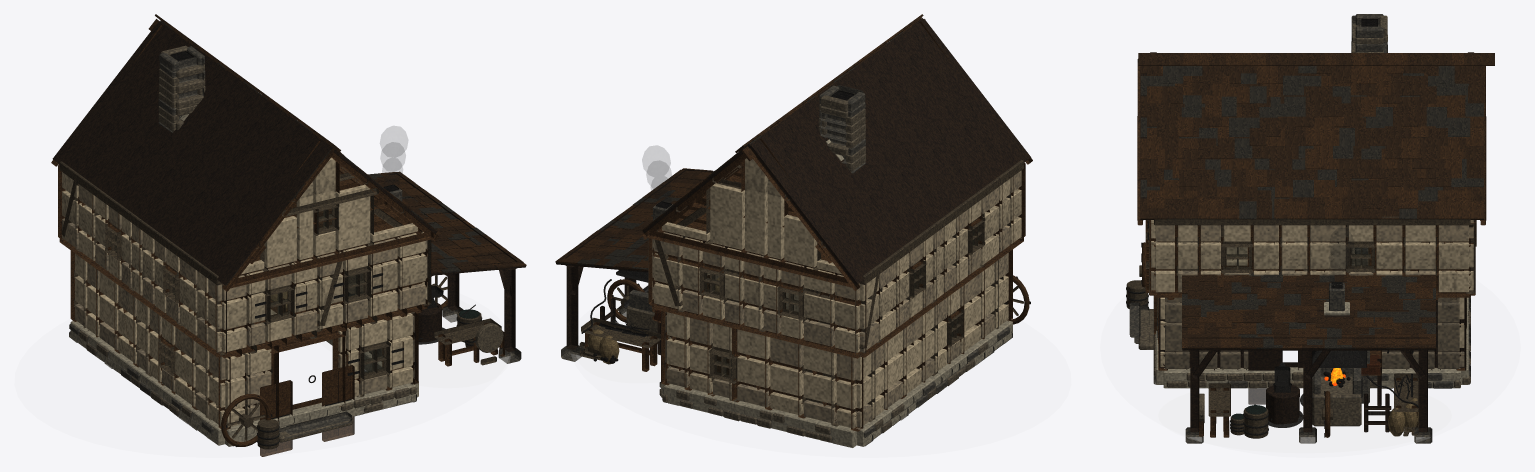
File: medieval_forge_3d_runtime.glb
The picture shows the model from 3 angles, left to right: view 1: azimuth 30°, elevation 25°; view 2: azimuth 150°, elevation 25°; view 3: azimuth 270°, elevation 25°; orthographic projection.
Visible parts, largest first — view 1: RUNTIME_BATCH_042_MAT_OAK_HEAT_AGED_SOOT, RUNTIME_BATCH_086_MAT_GROUND_SHADOW_ALPHA, RUNTIME_BATCH_021_MAT_LIME_CLAY_PLASTER_AGED, RUNTIME_BATCH_025_MAT_LIME_CLAY_PLASTER_AGED, RUNTIME_BATCH_023_MAT_LIME_CLAY_PLASTER_AGED, RUNTIME_BATCH_028_MAT_LIME_CLAY_PLASTER_AGED, RUNTIME_BATCH_019_MAT_LIME_CLAY_PLASTER_AGED, RUNTIME_BATCH_000_MAT_LIME_MORTAR, RUNTIME_BATCH_022_MAT_LIME_CLAY_PLASTER_WORN, RUNTIME_BATCH_014_MAT_OAK_HANDHEWN_GREY, RUNTIME_BATCH_026_MAT_LIME_CLAY_PLASTER_WORN, RUNTIME_BATCH_024_MAT_LIME_CLAY_PLASTER_WORN (+33 smaller); view 2: RUNTIME_BATCH_042_MAT_OAK_HEAT_AGED_SOOT, RUNTIME_BATCH_086_MAT_GROUND_SHADOW_ALPHA, RUNTIME_BATCH_023_MAT_LIME_CLAY_PLASTER_AGED, RUNTIME_BATCH_025_MAT_LIME_CLAY_PLASTER_AGED, RUNTIME_BATCH_029_MAT_LIME_CLAY_PLASTER_AGED, RUNTIME_BATCH_024_MAT_LIME_CLAY_PLASTER_WORN, RUNTIME_BATCH_026_MAT_LIME_CLAY_PLASTER_WORN, RUNTIME_BATCH_013_MAT_OAK_HANDHEWN_WEATHERED, RUNTIME_BATCH_014_MAT_OAK_HANDHEWN_GREY, RUNTIME_BATCH_000_MAT_LIME_MORTAR, RUNTIME_BATCH_008_MAT_OAK_HANDHEWN_WEATHERED, RUNTIME_BATCH_002_MAT_RUBBLE_STONE_WARM (+20 smaller); view 3: RUNTIME_BATCH_044_MAT_SHINGLE_WEATHERED_DARK, RUNTIME_BATCH_045_MAT_SHINGLE_WEATHERED_BROWN, RUNTIME_BATCH_086_MAT_GROUND_SHADOW_ALPHA, RUNTIME_BATCH_043_MAT_SHINGLE_WEATHERED_GREY, RUNTIME_BATCH_025_MAT_LIME_CLAY_PLASTER_AGED, RUNTIME_BATCH_053_MAT_SHINGLE_WEATHERED_DARK, RUNTIME_BATCH_054_MAT_SHINGLE_WEATHERED_BROWN, RUNTIME_BATCH_055_MAT_SHINGLE_WEATHERED_GREY, RUNTIME_BATCH_014_MAT_OAK_HANDHEWN_GREY, RUNTIME_BATCH_027_MAT_LIME_CLAY_PLASTER_SOOTED, RUNTIME_BATCH_026_MAT_LIME_CLAY_PLASTER_WORN, RUNTIME_BATCH_051_MAT_OAK_HEAT_AGED_SOOT (+26 smaller).
Boxes of the visible parts, x1,y1,x2,y2 form: RUNTIME_BATCH_042_MAT_OAK_HEAT_AGED_SOOT: (52,21,436,285); RUNTIME_BATCH_086_MAT_GROUND_SHADOW_ALPHA: (15,290,510,457); RUNTIME_BATCH_021_MAT_LIME_CLAY_PLASTER_AGED: (221,232,425,352); RUNTIME_BATCH_025_MAT_LIME_CLAY_PLASTER_AGED: (62,172,427,351); RUNTIME_BATCH_023_MAT_LIME_CLAY_PLASTER_AGED: (75,253,225,426); RUNTIME_BATCH_028_MAT_LIME_CLAY_PLASTER_AGED: (241,157,417,274); RUNTIME_BATCH_019_MAT_LIME_CLAY_PLASTER_AGED: (225,313,412,427); RUNTIME_BATCH_000_MAT_LIME_MORTAR: (70,321,418,446); RUNTIME_BATCH_022_MAT_LIME_CLAY_PLASTER_WORN: (222,238,425,346); RUNTIME_BATCH_014_MAT_OAK_HANDHEWN_GREY: (59,161,423,326); RUNTIME_BATCH_026_MAT_LIME_CLAY_PLASTER_WORN: (62,184,427,343); RUNTIME_BATCH_024_MAT_LIME_CLAY_PLASTER_WORN: (75,262,225,416); RUNTIME_BATCH_042_MAT_OAK_HEAT_AGED_SOOT: (642,18,1030,284); RUNTIME_BATCH_086_MAT_GROUND_SHADOW_ALPHA: (571,283,1070,457); RUNTIME_BATCH_023_MAT_LIME_CLAY_PLASTER_AGED: (667,263,1008,428); RUNTIME_BATCH_025_MAT_LIME_CLAY_PLASTER_AGED: (652,179,1021,352); RUNTIME_BATCH_029_MAT_LIME_CLAY_PLASTER_AGED: (662,158,841,274); RUNTIME_BATCH_024_MAT_LIME_CLAY_PLASTER_WORN: (667,253,1008,427); RUNTIME_BATCH_026_MAT_LIME_CLAY_PLASTER_WORN: (652,170,1021,352); RUNTIME_BATCH_013_MAT_OAK_HANDHEWN_WEATHERED: (648,162,1025,358); RUNTIME_BATCH_014_MAT_OAK_HANDHEWN_GREY: (648,159,1023,355); RUNTIME_BATCH_000_MAT_LIME_MORTAR: (661,320,1012,447); RUNTIME_BATCH_008_MAT_OAK_HANDHEWN_WEATHERED: (661,249,1012,431); RUNTIME_BATCH_002_MAT_RUBBLE_STONE_WARM: (659,342,988,442); RUNTIME_BATCH_044_MAT_SHINGLE_WEATHERED_DARK: (1138,53,1494,219); RUNTIME_BATCH_045_MAT_SHINGLE_WEATHERED_BROWN: (1140,53,1483,219); RUNTIME_BATCH_086_MAT_GROUND_SHADOW_ALPHA: (1100,280,1520,457); RUNTIME_BATCH_043_MAT_SHINGLE_WEATHERED_GREY: (1140,66,1483,219); RUNTIME_BATCH_025_MAT_LIME_CLAY_PLASTER_AGED: (1155,225,1473,292); RUNTIME_BATCH_053_MAT_SHINGLE_WEATHERED_DARK: (1182,271,1435,349); RUNTIME_BATCH_054_MAT_SHINGLE_WEATHERED_BROWN: (1182,272,1435,349); RUNTIME_BATCH_055_MAT_SHINGLE_WEATHERED_GREY: (1182,272,1435,349); RUNTIME_BATCH_014_MAT_OAK_HANDHEWN_GREY: (1154,216,1476,299); RUNTIME_BATCH_027_MAT_LIME_CLAY_PLASTER_SOOTED: (1165,297,1459,368); RUNTIME_BATCH_026_MAT_LIME_CLAY_PLASTER_WORN: (1155,220,1473,292); RUNTIME_BATCH_051_MAT_OAK_HEAT_AGED_SOOT: (1190,350,1427,432).
Size of the model in its own units: 14.4 by 9.72 by 11.6.
26 materials, 25 textured.
